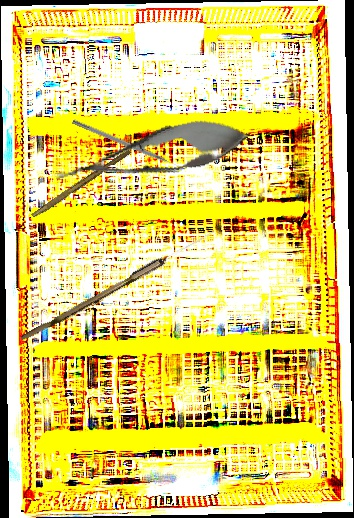Hook Surgical: (71, 118, 185, 172)
Micro Scissor: (49, 107, 256, 202)
Scalpel Handle: (31, 147, 132, 221)
Surgical Spoon: (20, 226, 216, 346)
